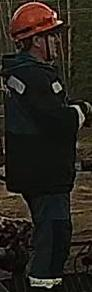gloves: (76, 100, 92, 122)
helmet: (8, 1, 63, 42)
vest: (0, 53, 78, 194)
